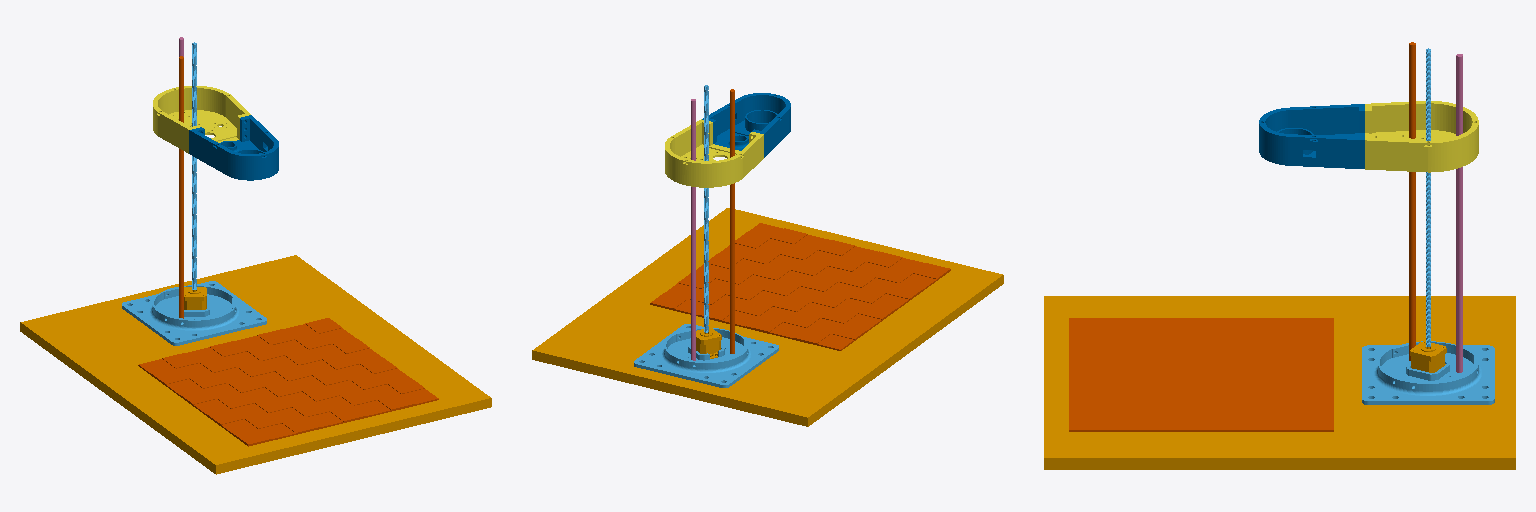
The robot description file, URDF, robot "Midnight":
<?xml version='1.0' encoding='utf-8'?>
<robot name="Midnight">
    <link name="MidnightBase-Wood">
        <visual><origin xyz="0 0 0.009" rpy="0 0 0"/>
            <geometry><box size="0.55 0.675 0.018"/></geometry></visual>
        <collision><origin xyz="0 0 0.009" rpy="0 0 0"/>
            <geometry><box size="0.55 0.675 0.018"/></geometry></collision>
    </link>
    <link name="LowerBase">
        <inertial>
            <origin xyz="0.08147568967992726 -0.08136372289067957 -0.005151942905948175" rpy="0.0 -0.0 0.0" />
            <mass value="2.3080511770360643" />
            <inertia ixx="0.005950362778940191" iyy="0.00594918320647588" izz="0.011807509061148094" ixy="9.534102561606703e-07" iyz="7.714172974866013e-07" ixz="1.463276484785933e-06" />
        </inertial>
        <visual name="LowerBase_visual">
            <origin xyz="0.08140375000000473 -0.08140151999999962 -0.008999999999999958" rpy="-3.141592653589793 -9.164029996048199e-25 1.5707963267948966" />
            <geometry>
                <mesh filename="meshes/LowerBase.stl" scale="0.001 0.001 0.001" />
            </geometry>
        </visual>
        <collision name="LowerBase_collision">
            <origin xyz="0.08140375000000473 -0.08140151999999962 -0.008999999999999958" rpy="-3.141592653589793 -9.164029996048199e-25 1.5707963267948966" />
            <geometry>
                <mesh filename="meshes/LowerBase.stl" scale="0.001 0.001 0.001" />
            </geometry>
        </collision>
    </link>
    <link name="SHF10D">
        <inertial>
            <origin xyz="-0.00014732309623365983 0.012436513977015697 4.436451176584432e-15" rpy="0.0 0.0 0.0" />
            <mass value="0.06685638565719092" />
            <inertia ixx="7.858500329391116e-06" iyy="6.130639649220256e-06" izz="1.1670723992972424e-05" ixy="1.5329239587103087e-07" iyz="-1.9081958204517662e-17" ixz="-4.560266395310083e-18" />
        </inertial>
        <visual name="SHF10D_visual">
            <origin xyz="0.0 0.0 0.0" rpy="0.0 0.0 0.0" />
            <geometry>
                <mesh filename="meshes/SHF10D.stl" scale="0.001 0.001 0.001" />
            </geometry>
        </visual>
        <collision name="SHF10D_collision">
            <origin xyz="0.0 0.0 0.0" rpy="0.0 0.0 0.0" />
            <geometry>
                <mesh filename="meshes/SHF10D.stl" scale="0.001 0.001 0.001" />
            </geometry>
        </collision>
    </link>
    <link name="SHF10E">
        <inertial>
            <origin xyz="-0.012436511451356758 -4.440892098500626e-15 0.0158526775125884" rpy="0.0 -0.0 0.0" />
            <mass value="0.06685638565719092" />
            <inertia ixx="6.130639649220698e-06" iyy="1.1670723992972861e-05" izz="7.858500329391018e-06" ixy="-1.9141228688219427e-17" iyz="4.6037600495166446e-18" ixz="-1.5329239587126817e-07" />
        </inertial>
        <visual name="SHF10E_visual">
            <origin xyz="2.52565895308976e-09 -4.440892098500626e-18 0.01600000060882209" rpy="1.5707963267948966 -1.5707963267948915 0" />
            <geometry>
                <mesh filename="meshes/SHF10E.stl" scale="0.001 0.001 0.001" />
            </geometry>
        </visual>
        <collision name="SHF10E_collision">
            <origin xyz="2.52565895308976e-09 -4.440892098500626e-18 0.01600000060882209" rpy="1.5707963267948966 -1.5707963267948915 0" />
            <geometry>
                <mesh filename="meshes/SHF10E.stl" scale="0.001 0.001 0.001" />
            </geometry>
        </collision>
    </link>
    <link name="SHF10F">
        <inertial>
            <origin xyz="0.012436512554474382 4.405364961712621e-15 -0.0161473243419411" rpy="0.0 -0.0 0.0" />
            <mass value="0.06685638565719092" />
            <inertia ixx="6.130639649219727e-06" iyy="1.1670723992972427e-05" izz="7.858500329390848e-06" ixy="-1.9146885352010706e-17" iyz="-4.59465099138577e-18" ixz="1.532923958712038e-07" />
        </inertial>
        <visual name="SHF10F_visual">
            <origin xyz="-1.422541329176852e-09 -3.1086244689504386e-17 -0.01600000124570741" rpy="-1.5707963267948966 -1.570796326794895 0" />
            <geometry>
                <mesh filename="meshes/SHF10F.stl" scale="0.001 0.001 0.001" />
            </geometry>
        </visual>
        <collision name="SHF10F_collision">
            <origin xyz="-1.422541329176852e-09 -3.1086244689504386e-17 -0.01600000124570741" rpy="-1.5707963267948966 -1.570796326794895 0" />
            <geometry>
                <mesh filename="meshes/SHF10F.stl" scale="0.001 0.001 0.001" />
            </geometry>
        </collision>
    </link>
    <link name="Rod_Z1">
        <inertial>
            <origin xyz="-3.807185100512811e-09 -1.7493641379928703e-09 -0.25000000000000006" rpy="0.0 -0.0 0.0" />
            <mass value="0.3082687791334984" />
            <inertia ixx="0.006424192911817457" iyy="0.0064241929118174675" izz="3.853359739168852e-06" ixy="-1.6576569512492793e-18" iyz="3.9600773820267294e-35" ixz="8.673617379884037e-19" />
        </inertial>
        <visual name="Rod_Z1_visual">
            <origin xyz="-3.807185096071919e-09 -1.7493641735200071e-09 -1.7763568394002505e-17" rpy="-3.141592653589793 6.123143211019122e-17 -0.5235987755983015" />
            <geometry>
                <mesh filename="meshes/Rod_Z1.stl" scale="0.001 0.001 0.001" />
            </geometry>
        </visual>
        <collision name="Rod_Z1_collision">
            <origin xyz="-3.807185096071919e-09 -1.7493641735200071e-09 -1.7763568394002505e-17" rpy="-3.141592653589793 6.123143211019122e-17 -0.5235987755983015" />
            <geometry>
                <mesh filename="meshes/Rod_Z1.stl" scale="0.001 0.001 0.001" />
            </geometry>
        </collision>
    </link>
    <link name="Rod_Z2">
        <inertial>
            <origin xyz="-6.368824163196867e-10 -1.7493639603571864e-09 -0.24999999999999994" rpy="0.0 -0.0 0.0" />
            <mass value="0.3082687791334984" />
            <inertia ixx="0.006424192911817464" iyy="0.006424192911817478" izz="3.853359739167117e-06" ixy="-8.27406702197357e-45" iyz="3.469446951953614e-18" ixz="1.5465681871719748e-37" />
        </inertial>
        <visual name="Rod_Z2_visual">
            <origin xyz="-6.368824163196867e-10 -1.7493639603571864e-09 7.993605777301127e-17" rpy="-3.141592653589793 1.0400533796576025e-76 2.383578030884403e-16" />
            <geometry>
                <mesh filename="meshes/Rod_Z2.stl" scale="0.001 0.001 0.001" />
            </geometry>
        </visual>
        <collision name="Rod_Z2_collision">
            <origin xyz="-6.368824163196867e-10 -1.7493639603571864e-09 7.993605777301127e-17" rpy="-3.141592653589793 1.0400533796576025e-76 2.383578030884403e-16" />
            <geometry>
                <mesh filename="meshes/Rod_Z2.stl" scale="0.001 0.001 0.001" />
            </geometry>
        </collision>
    </link>
    <link name="Rod_Z3">
        <inertial>
            <origin xyz="2.533414362737574e-09 -1.7493639603571864e-09 -0.24999999999999994" rpy="0.0 -0.0 -5.62668058736151e-114" />
            <mass value="0.3082687791334984" />
            <inertia ixx="0.006424192911817478" iyy="0.006424192911817481" izz="3.8533597391705865e-06" ixy="1.3010426069826053e-18" iyz="-3.469446951953614e-18" ixz="8.673617379884035e-19" />
        </inertial>
        <visual name="Rod_Z3_visual">
            <origin xyz="2.533414367178466e-09 -1.7493639603571864e-09 4.4408920985006264e-17" rpy="-3.141592653589793 -9.078471767112124e-22 0.5235987755982986" />
            <geometry>
                <mesh filename="meshes/Rod_Z3.stl" scale="0.001 0.001 0.001" />
            </geometry>
        </visual>
        <collision name="Rod_Z3_collision">
            <origin xyz="2.533414367178466e-09 -1.7493639603571864e-09 4.4408920985006264e-17" rpy="-3.141592653589793 -9.078471767112124e-22 0.5235987755982986" />
            <geometry>
                <mesh filename="meshes/Rod_Z3.stl" scale="0.001 0.001 0.001" />
            </geometry>
        </collision>
    </link>
    <link name="Nema17Model">
        <inertial>
            <origin xyz="-0.000117354469181822 6.790928814158548e-05 0.01894109083311926" rpy="0.0 -0.0 0.0" />
            <mass value="0.48879467034854424" />
            <inertia ixx="0.0001263473999396289" iyy="0.0001271144910406771" izz="0.00013079171443647342" ixy="6.577477243978967e-07" iyz="5.526090981573459e-07" ixz="-9.653905590862303e-07" />
        </inertial>
        <visual name="Nema17Model_visual">
            <origin xyz="-6.36885335930041e-10 1.74936403141146e-09 -2.6645352591003756e-17" rpy="-4.582015059653859e-25 7.936282884366223e-25 1.0471975511965979" />
            <geometry>
                <mesh filename="meshes/Nema17Model.stl" scale="0.001 0.001 0.001" />
            </geometry>
        </visual>
        <collision name="Nema17Model_collision">
            <origin xyz="-6.36885335930041e-10 1.74936403141146e-09 -2.6645352591003756e-17" rpy="-4.582015059653859e-25 7.936282884366223e-25 1.0471975511965979" />
            <geometry>
                <mesh filename="meshes/Nema17Model.stl" scale="0.001 0.001 0.001" />
            </geometry>
        </collision>
    </link>
    <link name="LeadScrew">
        <inertial>
            <origin xyz="-2.0100000000000002e-06 -0.21250201000000002 -0.0864" rpy="0.0 -0.0 -8.433758354584419e-81" />
            <mass value="0.0" />
            <inertia ixx="0.0" iyy="0.0" izz="0.0" ixy="0.0" iyz="0.0" ixz="0.0" />
        </inertial>
        <visual name="LeadScrew_visual">
            <origin xyz="-6.36885335930041e-10 1.74936403141146e-09 0.21500000000000014" rpy="-1.5707963267948966 -4.582015059653856e-25 -0.5235987755982987" />
            <geometry>
                <mesh filename="meshes/LeadScrew.stl" scale="0.001 0.001 0.001" />
            </geometry>
        </visual>
        <collision name="LeadScrew_collision">
            <origin xyz="-6.36885335930041e-10 1.74936403141146e-09 0.21500000000000014" rpy="-1.5707963267948966 -4.582015059653856e-25 -0.5235987755982987" />
            <geometry>
                <mesh filename="meshes/LeadScrew.stl" scale="0.001 0.001 0.001" />
            </geometry>
        </collision>
    </link>
    <link name="LeadScrewNut">
        <inertial>
            <origin xyz="-8.865087254586676e-07 -0.1645869718741605 1.8598939803382565e-07" rpy="0.0 -5.0978941156238473e-57 0.0" />
            <mass value="0.011769952647612249" />
            <inertia ixx="4.5600301208995053e-07" iyy="5.928423361596961e-07" izz="4.5504817224734095e-07" ixy="-6.244812783622197e-11" iyz="-1.1681866411705766e-12" ixz="9.161424392923149e-10" />
        </inertial>
        <visual name="LeadScrewNut_visual">
            <origin xyz="-6.368853362075967e-10 -0.1644999999999999 -1.74936403141146e-09" rpy="-1.0581716995885165e-24 -0.5235987755982988 5.551115176034298e-17" />
            <geometry>
                <mesh filename="meshes/LeadScrewNut.stl" scale="0.001 0.001 0.001" />
            </geometry>
        </visual>
        <collision name="LeadScrewNut_collision">
            <origin xyz="-6.368853362075967e-10 -0.1644999999999999 -1.74936403141146e-09" rpy="-1.0581716995885165e-24 -0.5235987755982988 5.551115176034298e-17" />
            <geometry>
                <mesh filename="meshes/LeadScrewNut.stl" scale="0.001 0.001 0.001" />
            </geometry>
        </collision>
    </link>
    <link name="Arm1-Piece1">
        <inertial>
            <origin xyz="4.0257250734965665e-05 -0.01746821074743565 -0.006144777189445385" rpy="0.0 -5.097894115623848e-57 0.0" />
            <mass value="1.836374931461854" />
            <inertia ixx="0.005052961990444582" iyy="0.00930378402622177" izz="0.0050343573480212105" ixy="2.1288705668570704e-07" iyz="7.498636579683636e-05" ixz="5.001230649482781e-06" />
        </inertial>
        <visual name="Arm1-Piece1_visual">
            <origin xyz="-6.368854221113743e-10 0.3175206565856935 1.7493641379928703e-09" rpy="1.5707963267948966 1.5707963267948963 0" />
            <geometry>
                <mesh filename="meshes/Arm1-Piece1.stl" scale="0.001 0.001 0.001" />
            </geometry>
        </visual>
        <collision name="Arm1-Piece1_collision">
            <origin xyz="-6.368854221113743e-10 0.3175206565856935 1.7493641379928703e-09" rpy="1.5707963267948966 1.5707963267948963 0" />
            <geometry>
                <mesh filename="meshes/Arm1-Piece1.stl" scale="0.001 0.001 0.001" />
            </geometry>
        </collision>
    </link>
    <link name="MidnightFusion_Arm1Piece2">
        <inertial>
            <origin xyz="-0.022494668480511636 -0.07448718417277242 -0.04413894177654926" rpy="4.100266178934991e-143 -0.0 0.0" />
            <mass value="1.6023773869965832" />
            <inertia ixx="0.0063495756955756315" iyy="0.0030080447672233557" izz="0.0039893266014118245" ixy="9.97785510415336e-05" iyz="2.7421518632015678e-06" ixz="-1.1402556231119036e-06" />
        </inertial>
        <visual name="MidnightFusion_Arm1Piece2_visual">
            <origin xyz="-0.3582706565856935 0.09000000174936477 -0.04442263936311355" rpy="-1.5707963267948966 1.1018963519404674e-14 -1.5707963267948966" />
            <geometry>
                <mesh filename="meshes/MidnightFusion_Arm1Piece2.stl" scale="0.001 0.001 0.001" />
            </geometry>
        </visual>
        <collision name="MidnightFusion_Arm1Piece2_collision">
            <origin xyz="-0.3582706565856935 0.09000000174936477 -0.04442263936311355" rpy="-1.5707963267948966 1.1018963519404674e-14 -1.5707963267948966" />
            <geometry>
                <mesh filename="meshes/MidnightFusion_Arm1Piece2.stl" scale="0.001 0.001 0.001" />
            </geometry>
        </collision>
    </link>
    <link name="Chess-Board">
        <inertial>
            <origin xyz="4.4988855449786064e-18 -1.769616199607883e-17 -0.0012142857142857142" rpy="0.0 0.0 0.0" />
            <mass value="3.9673899999999995" />
            <inertia ixx="0.04774546724059519" iyy="0.047745467240595196" izz="0.09548185266666656" ixy="-0.0003196937031249965" iyz="-9.15178234643453e-19" ixz="1.568147516605654e-19" />
        </inertial>
        <visual name="Chess-Board_visual">
            <origin xyz="0.0 0.0 0.0" rpy="0.0 0.0 0.0" />
            <geometry>
                <mesh filename="meshes/Chess-Board.stl" scale="0.001 0.001 0.001" />
            </geometry>
        </visual>
        <collision name="Chess-Board_collision">
            <origin xyz="0.0 0.0 0.0" rpy="0.0 0.0 0.0" />
            <geometry>
                <mesh filename="meshes/Chess-Board.stl" scale="0.001 0.001 0.001" />
            </geometry>
        </collision>
    </link>
    <joint name="MidnightBase-Wood_Rigid-1" type="fixed">
        <origin xyz="-0.08140375000000001 0.13109848 0.018000000000000002" rpy="3.141592653589793 -0.0 0.0" />
        <parent link="MidnightBase-Wood" />
        <child link="LowerBase" />
    </joint>
    <joint name="LowerBase_Rigid-2" type="fixed">
        <origin xyz="0.01711411000000001 -0.06275994000000001 -0.016" rpy="1.5707963267948966 -1.5906374528393744e-40 2.6179938779914966" />
        <parent link="LowerBase" />
        <child link="SHF10E" />
    </joint>
    <joint name="LowerBase_Rigid-3" type="fixed">
        <origin xyz="0.14569741 -0.06275994000000001 -0.016" rpy="-1.5707963267948966 -1.5906374528393707e-40 -2.617993877991493" />
        <parent link="LowerBase" />
        <child link="SHF10F" />
    </joint>
    <joint name="SHF10E_Rigid-4" type="fixed">
        <origin xyz="-0.019999999896777948 0.0069999999999999975 0.01600000402740829" rpy="1.5707963267948966 -0.5235987755982964 3.141592653589793" />
        <parent link="SHF10E" />
        <child link="Rod_Z1" />
    </joint>
    <joint name="SHF10D_Rigid-5" type="fixed">
        <origin xyz="-6.368824163196867e-10 0.020000001749364102 -0.006999999999999953" rpy="3.141592653589793 1.219727444046193e-19 -3.1415926535897927" />
        <parent link="SHF10D" />
        <child link="Rod_Z2" />
    </joint>
    <joint name="SHF10F_Rigid-6" type="fixed">
        <origin xyz="0.019999999896777892 -0.0069999999999999975 -0.016000004027408393" rpy="-1.5707963267948966 -0.5235987755983003 3.141592653589793" />
        <parent link="SHF10F" />
        <child link="Rod_Z3" />
    </joint>
    <joint name="LowerBase_Rigid-7" type="fixed">
        <origin xyz="0.08140576000000001 -0.08140353000000002 -0.007499999999999998" rpy="3.141592653589793 1.8367099231598242e-40 1.232595164407831e-32" />
        <parent link="LowerBase" />
        <child link="Nema17Model" />
    </joint>
    <joint name="Nema17Model_Revolute-8" type="continuous">
        <origin xyz="0.0 0.0 0.06090000000000001" rpy="-9.183549615799121e-41 9.183549615799121e-41 1.232595164407831e-32" />
        <parent link="Nema17Model" />
        <child link="LeadScrew" />
        <axis xyz="9.183549615799121e-41 -9.183549615799121e-41 1.0" />
    </joint>
    <joint name="LeadScrew_Slider-9" type="prismatic">
        <origin xyz="0.0 0.0 0.45" rpy="1.5707963267948966 5.551115123125783e-17 9.183549579434953e-41" />
        <parent link="LeadScrew" />
        <child link="LeadScrewNut" />
        <axis xyz="-5.551115123125783e-17 1.0 -9.183549615799121e-41" />
        <limit lower="-0.25" upper="0.12" effort="1000000" velocity="1000000" />
    </joint>
    <joint name="LeadScrewNut_Rigid-11" type="fixed">
        <origin xyz="0.0 -0.161 0.0" rpy="3.141592653589793 -1.8367099231598242e-40 1.1102230246251565e-16" />
        <parent link="LeadScrewNut" />
        <child link="Arm1-Piece1" />
    </joint>
    <joint name="Arm1-Piece1_Rigid-12" type="fixed">
        <origin xyz="-0.04442264 -0.04075000000000003 -0.09" rpy="1.5707963267948966 -9.183549615799127e-41 -1.5707963267948966" />
        <parent link="Arm1-Piece1" />
        <child link="MidnightFusion_Arm1Piece2" />
    </joint>

    <joint name="MidnightBase-Wood_Rigid-SHF10D" type="fixed">
        <origin xyz="0.000002 0.277502 0.034" rpy="0 0 3.141592653589793"/>
        <parent link="MidnightBase-Wood"/><child link="SHF10D"/>
    </joint>
    <joint name="MidnightBase-Wood_Rigid-Board" type="fixed">
        <origin xyz="0 -0.1125 0.0225" rpy="0 0 0"/>
        <parent link="MidnightBase-Wood"/><child link="Chess-Board"/>
    </joint>
</robot>

--- What the picture shows (computed from the rendered views, not written in the file) ---
The picture shows the robot from 3 angles, left to right: view 1: azimuth 30°, elevation 25°; view 2: azimuth 150°, elevation 25°; view 3: azimuth 270°, elevation 25°; orthographic projection.
Model Midnight with 14 links and 13 joints (1 continuous, 1 prismatic, 11 fixed), rooted at MidnightBase-Wood, posed all joints at 0.
Links seen in each view (by area): view 1: MidnightBase-Wood, Chess-Board, LowerBase, Arm1-Piece1, MidnightFusion_Arm1Piece2, Rod_Z1, LeadScrew; view 2: MidnightBase-Wood, Chess-Board, LowerBase, Arm1-Piece1, MidnightFusion_Arm1Piece2, Rod_Z1, Rod_Z2, LeadScrew, Nema17Model; view 3: MidnightBase-Wood, Chess-Board, LowerBase, Arm1-Piece1, MidnightFusion_Arm1Piece2, Rod_Z2, Rod_Z1, LeadScrew, Nema17Model.
Boxes of the visible links, x1,y1,x2,y2 form: MidnightBase-Wood: [20, 255, 491, 474]; Chess-Board: [138, 318, 438, 446]; LowerBase: [122, 281, 266, 345]; Arm1-Piece1: [153, 86, 250, 153]; MidnightFusion_Arm1Piece2: [189, 115, 278, 180]; Rod_Z1: [179, 56, 183, 318]; LeadScrew: [192, 42, 196, 289]; MidnightBase-Wood: [532, 208, 1003, 426]; Chess-Board: [650, 223, 950, 350]; LowerBase: [634, 324, 778, 387]; Arm1-Piece1: [665, 119, 763, 187]; MidnightFusion_Arm1Piece2: [702, 93, 790, 157]; Rod_Z1: [730, 89, 734, 353]; Rod_Z2: [691, 99, 695, 360]; LeadScrew: [704, 85, 708, 332]; Nema17Model: [696, 328, 721, 358]; MidnightBase-Wood: [1044, 296, 1515, 469]; Chess-Board: [1069, 318, 1333, 431]; LowerBase: [1362, 341, 1494, 404]; Arm1-Piece1: [1365, 101, 1478, 172]; MidnightFusion_Arm1Piece2: [1259, 104, 1364, 168]; Rod_Z2: [1456, 54, 1462, 372]; Rod_Z1: [1409, 42, 1415, 360]; LeadScrew: [1426, 48, 1430, 346]; Nema17Model: [1410, 341, 1446, 372].
Bounding box of the posed robot: 0.55 × 0.675 × 0.5364 m (x, y, z).
9 mesh visuals loaded from 13 distinct referenced files (9 binary STL); not drawn: 4 (reference not matched to a file when rendering).
